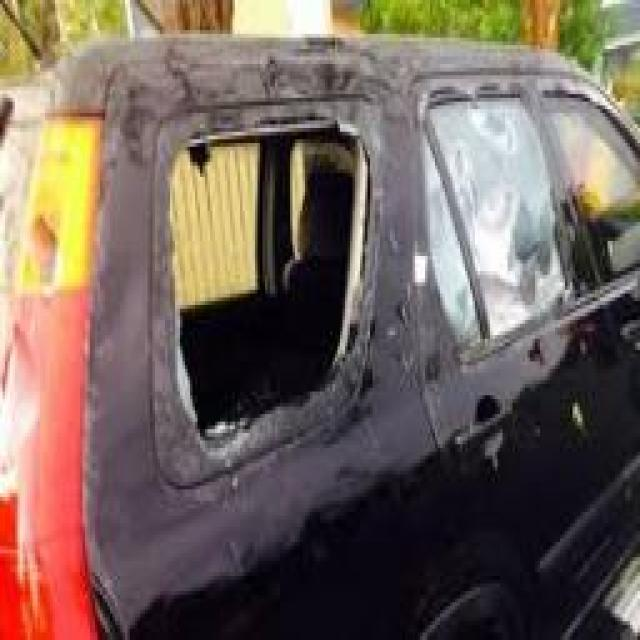replaceable: (144, 99, 387, 452), (0, 196, 75, 312)
